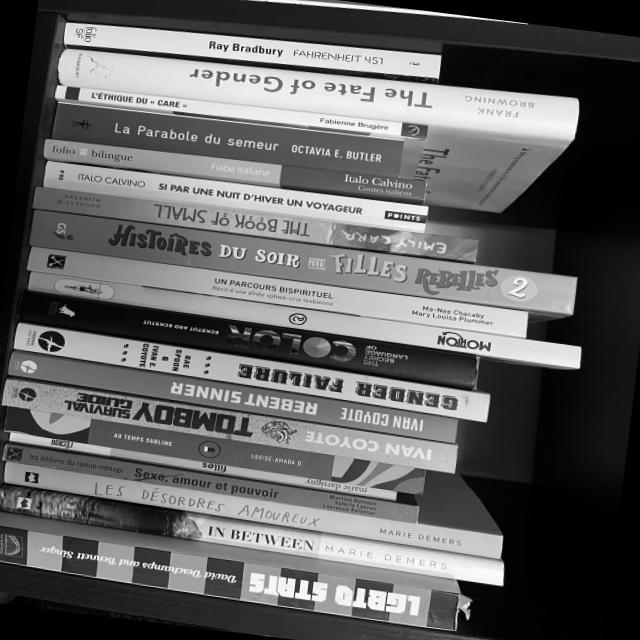book: (47, 46, 579, 219), (0, 419, 509, 559), (27, 204, 576, 326), (26, 267, 581, 372), (0, 510, 462, 633), (0, 482, 505, 588), (12, 321, 490, 423), (15, 288, 479, 390), (25, 245, 528, 338), (0, 374, 457, 475), (5, 348, 458, 444), (3, 405, 425, 495), (49, 80, 426, 180), (33, 186, 478, 263), (0, 442, 420, 523), (41, 159, 426, 233), (7, 431, 397, 502), (41, 134, 424, 205), (50, 101, 403, 178), (61, 19, 440, 84)
